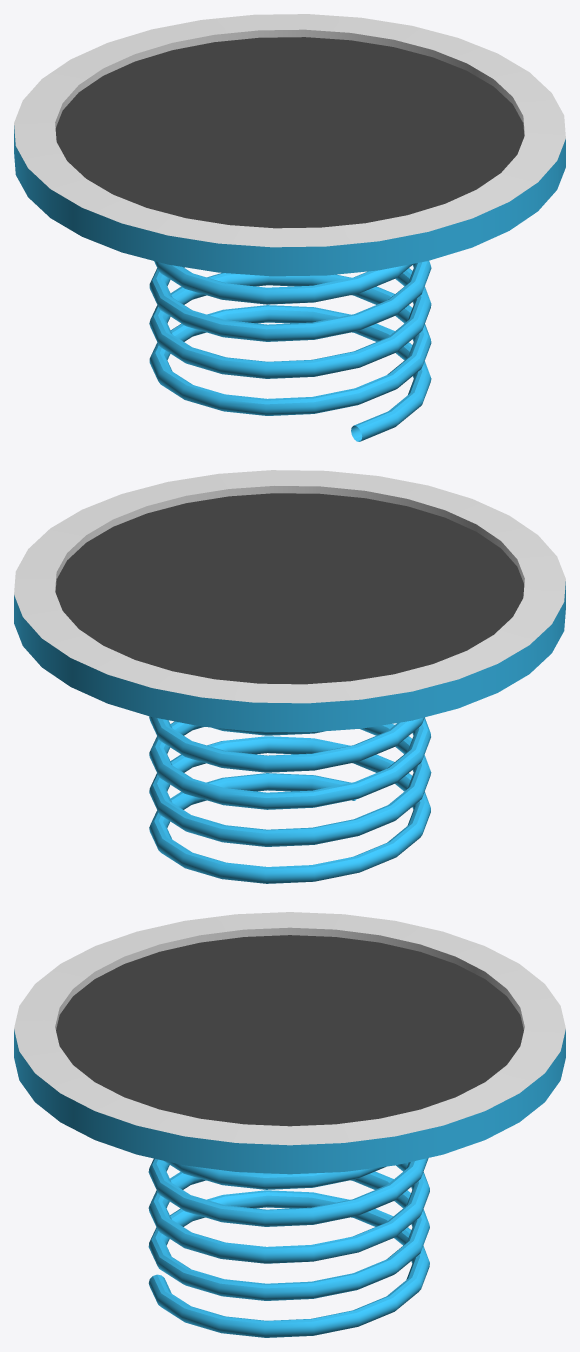
The model's file is Spring Pad Blue.fbx.
3 renders of one model, top to bottom at view 1: azimuth 30°, elevation 25°; view 2: azimuth 150°, elevation 25°; view 3: azimuth 270°, elevation 25°, orthographic.
Visible parts, largest first — view 1: Spiral; view 2: Spiral; view 3: Spiral.
Boxes of the visible parts, x1,y1,x2,y2 form: Spiral: (14,14,565,441); Spiral: (14,470,565,883); Spiral: (14,912,565,1337).
Size of the model in its own units: 220 by 116 by 220.
